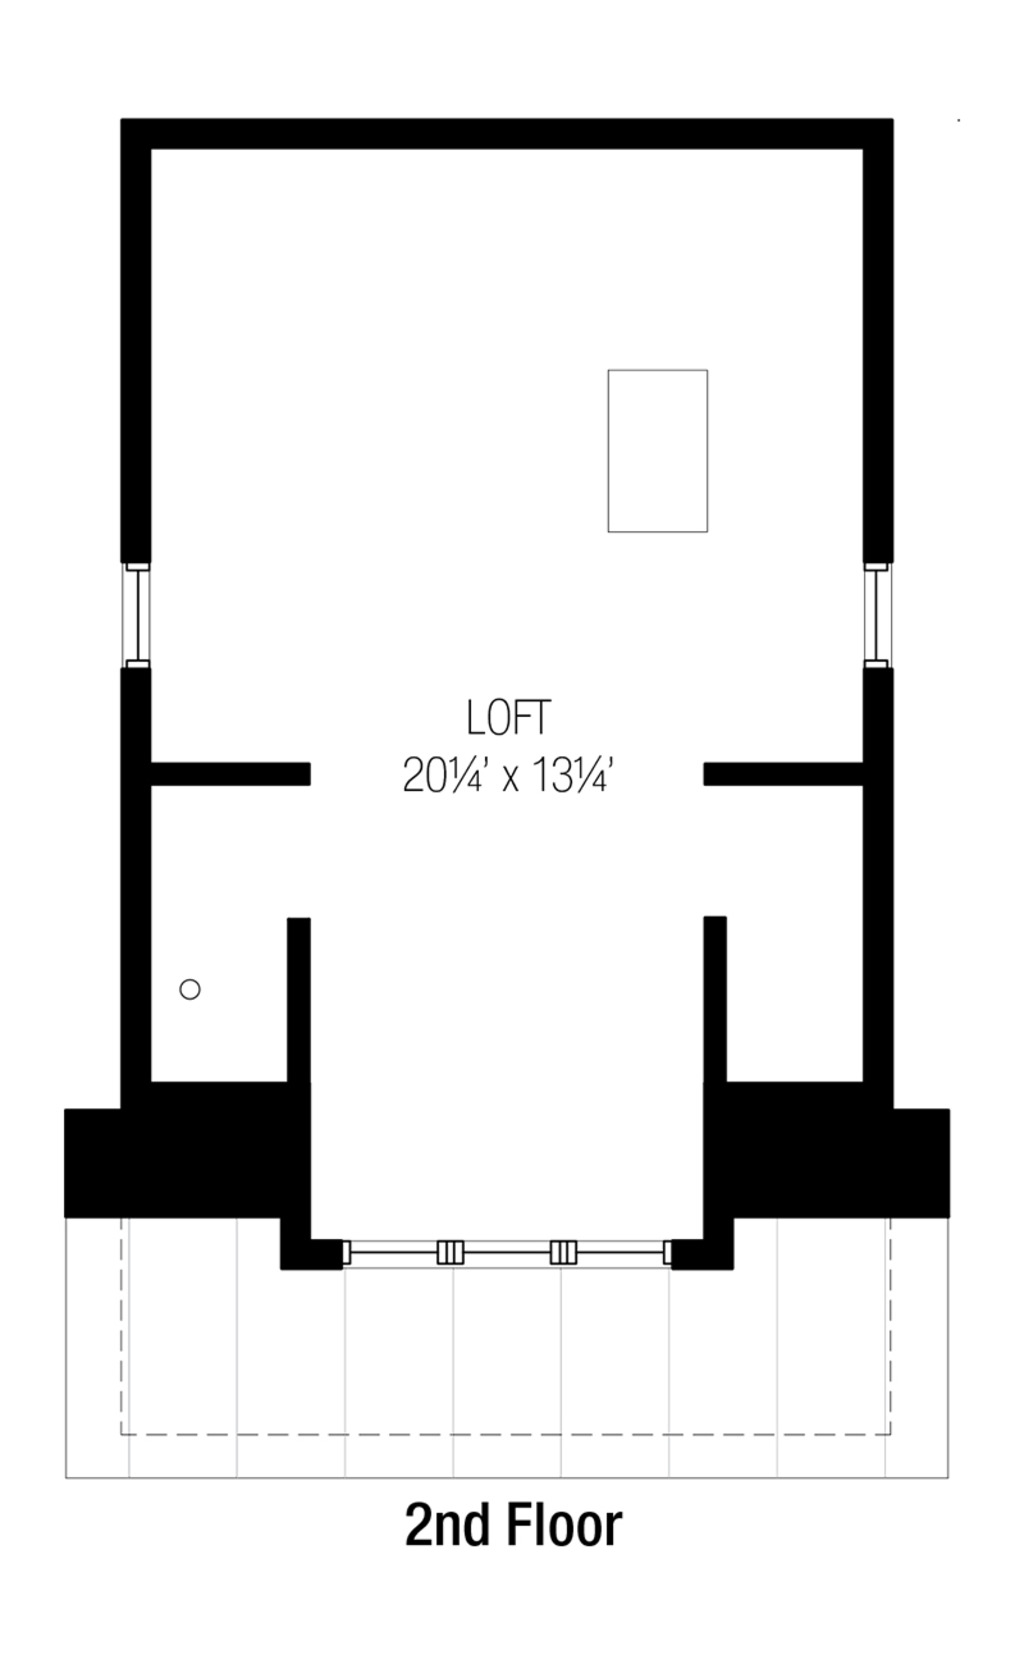window: (120, 562, 158, 670), (861, 568, 895, 668)
windows: (343, 1227, 674, 1273)
